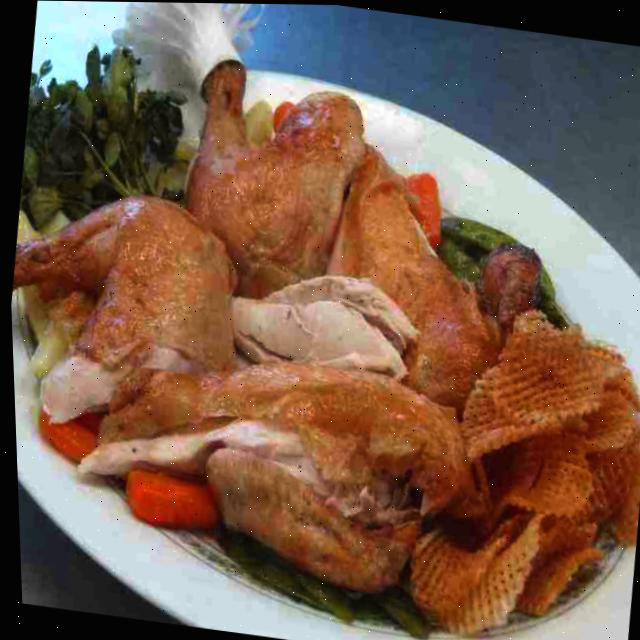鸡肉料理 含炸鸡: (0, 0, 519, 613)
